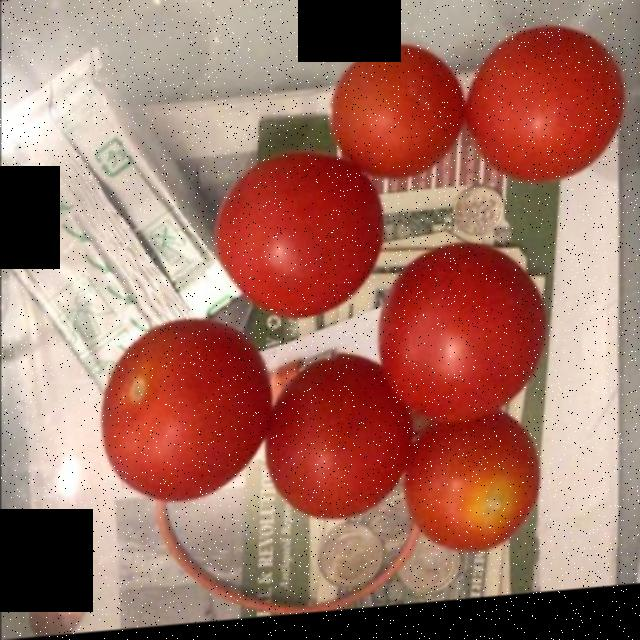tomato-raw: (95, 19, 620, 558)
